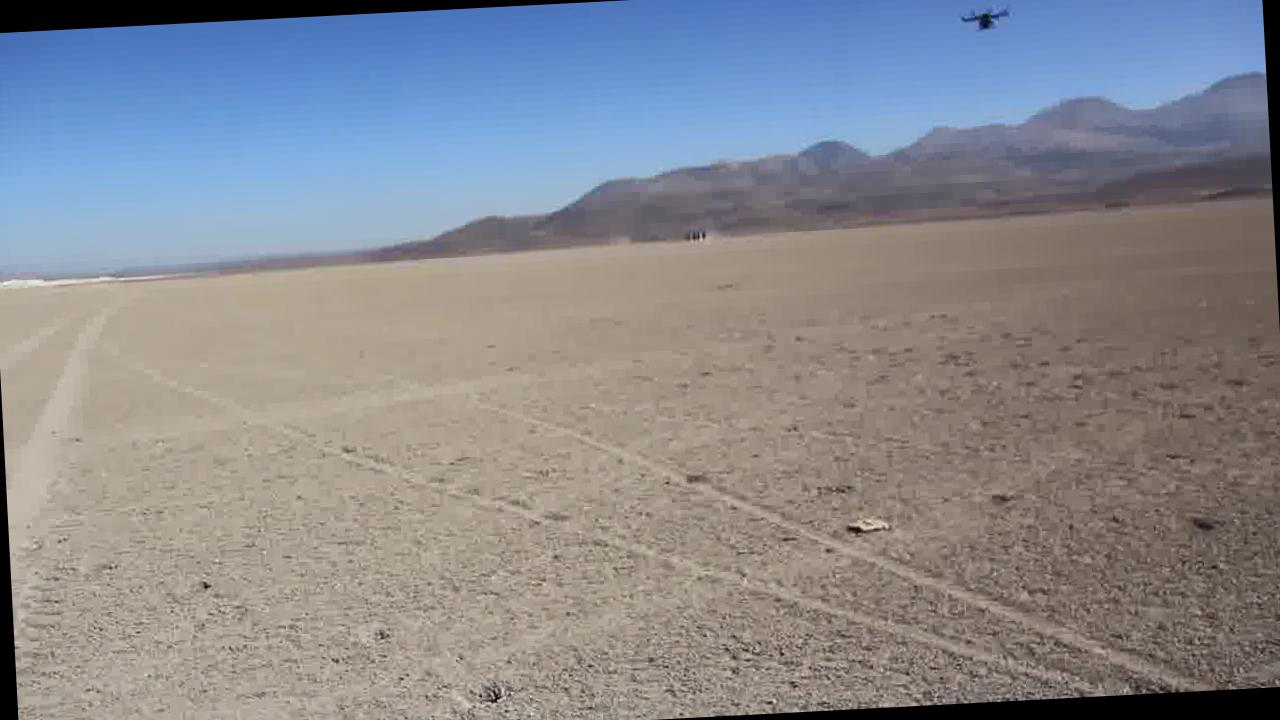drone: (952, 0, 1014, 37)
